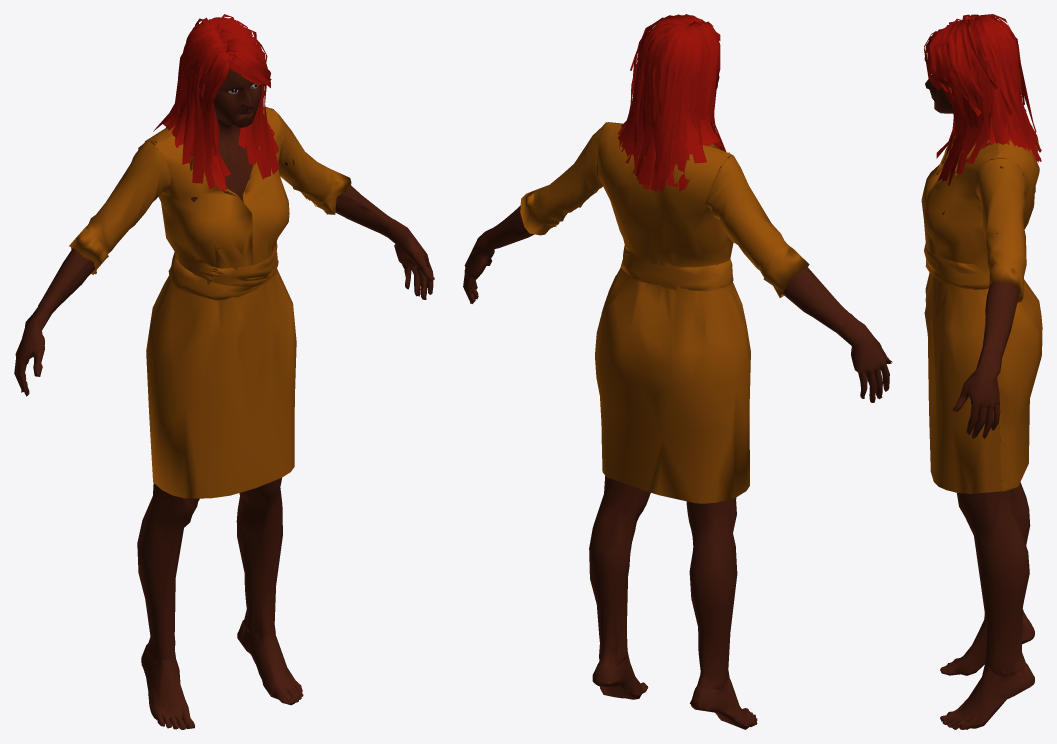
The model's file is MujerVestidoAmarillo.obj.
3 views of the same model, side by side, from view 1: azimuth 30°, elevation 25°; view 2: azimuth 150°, elevation 25°; view 3: azimuth 270°, elevation 25° (orthographic). The views are drawn at different scales.
Visible parts, largest first — view 1: BWom0002-8; view 2: BWom0002-8; view 3: BWom0002-8.
Boxes of the visible parts, bbox=[...] form: BWom0002-8: bbox=[14, 14, 434, 729]; BWom0002-8: bbox=[463, 14, 892, 729]; BWom0002-8: bbox=[921, 14, 1042, 729].
Bounding box in the file's own units: 1.72 × 2.71 × 0.438.
